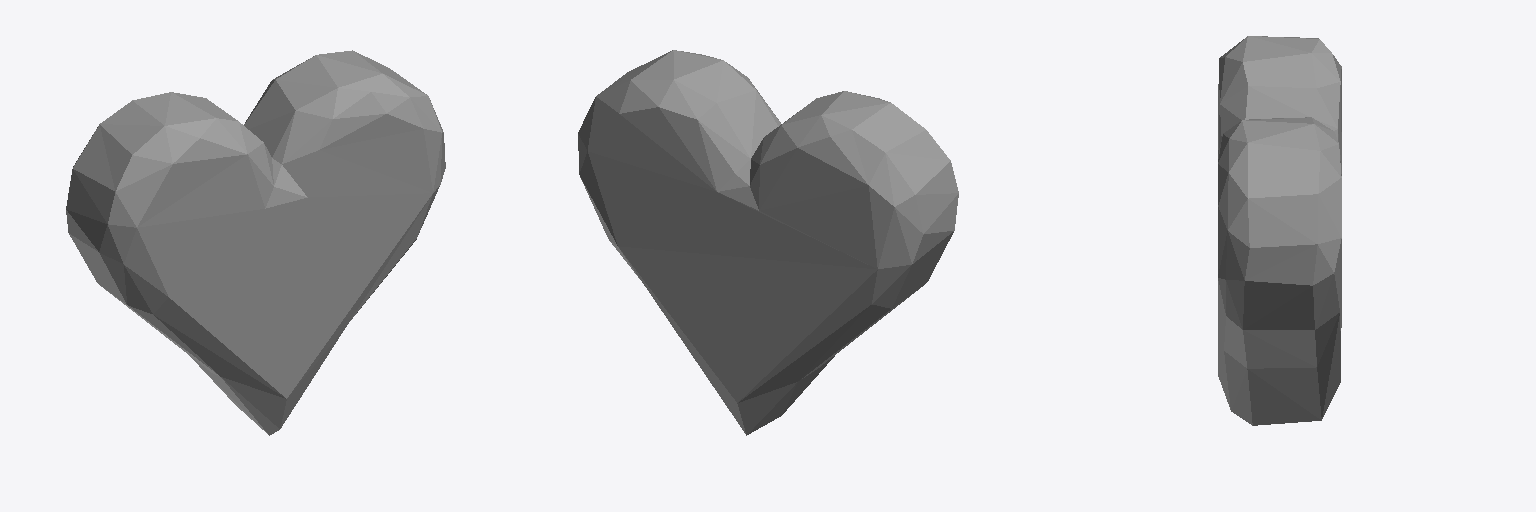
Rendered from heart.obj.
3 renders of one model, left to right at view 1: azimuth 30°, elevation 25°; view 2: azimuth 150°, elevation 25°; view 3: azimuth 270°, elevation 25°, orthographic.
Parts seen in each view (by area): view 1: <STL_BINARY>; view 2: <STL_BINARY>; view 3: <STL_BINARY>.
Part boxes in pixels (bbox=[...]): <STL_BINARY>: bbox=[66, 50, 445, 435]; <STL_BINARY>: bbox=[578, 50, 958, 435]; <STL_BINARY>: bbox=[1218, 36, 1341, 425].
Bounding box in the file's own units: 19.15 × 17.99 × 5.98.